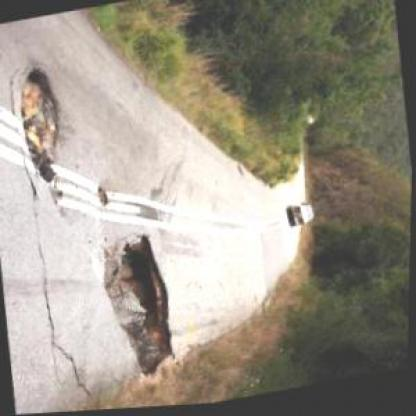pothole: (96, 229, 187, 387), (11, 60, 72, 188), (94, 185, 114, 212)
